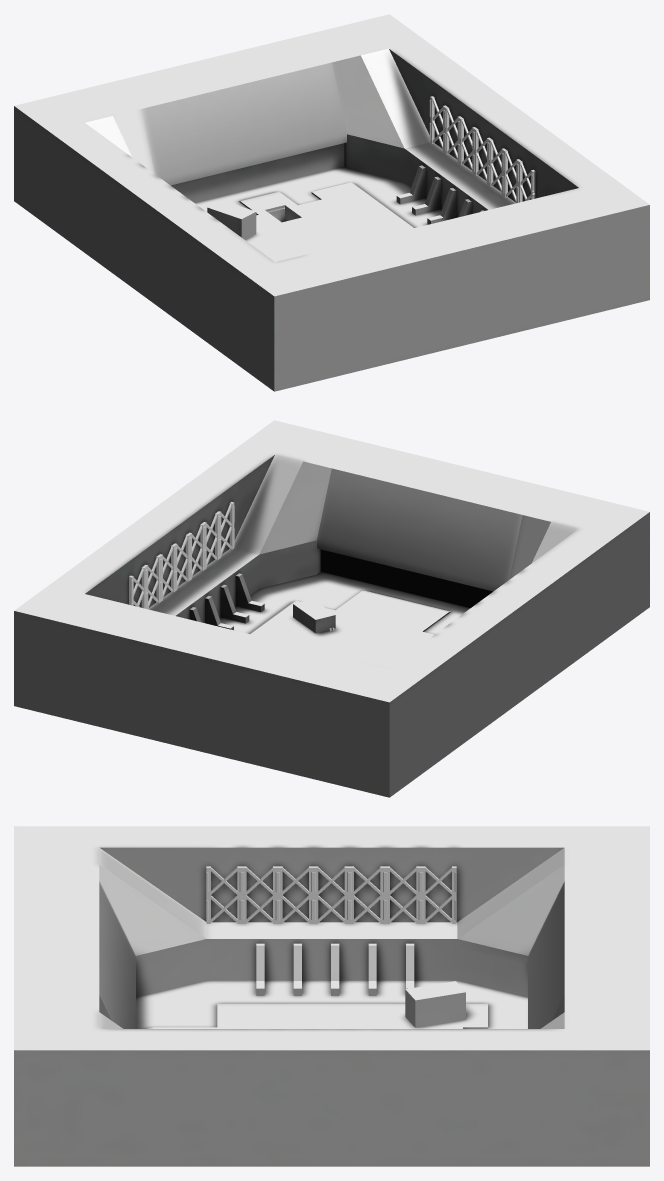
Rendered from bossfight0.fbx.
3 views of the same model, one above another, from view 1: azimuth 30°, elevation 25°; view 2: azimuth 150°, elevation 25°; view 3: azimuth 270°, elevation 25° (orthographic). The views are drawn at different scales.
Parts seen in each view (by area): view 1: Environment, Cube.001, Cube.006; view 2: Environment, Environment.001, Cube.001, Cube.006; view 3: Environment, Cube.001, Cube.006.
Part boxes in pixels (x1,y1,x2,y2): Environment: [14, 14, 649, 391]; Cube.001: [429, 96, 535, 194]; Cube.006: [429, 120, 535, 203]; Environment: [14, 420, 649, 797]; Environment.001: [320, 549, 492, 607]; Cube.001: [129, 502, 234, 600]; Cube.006: [129, 525, 234, 609]; Environment: [14, 826, 649, 1166]; Cube.001: [206, 866, 456, 895]; Cube.006: [206, 895, 456, 923].
Bounding box in the file's own units: 27766 × 8859 × 33335.
